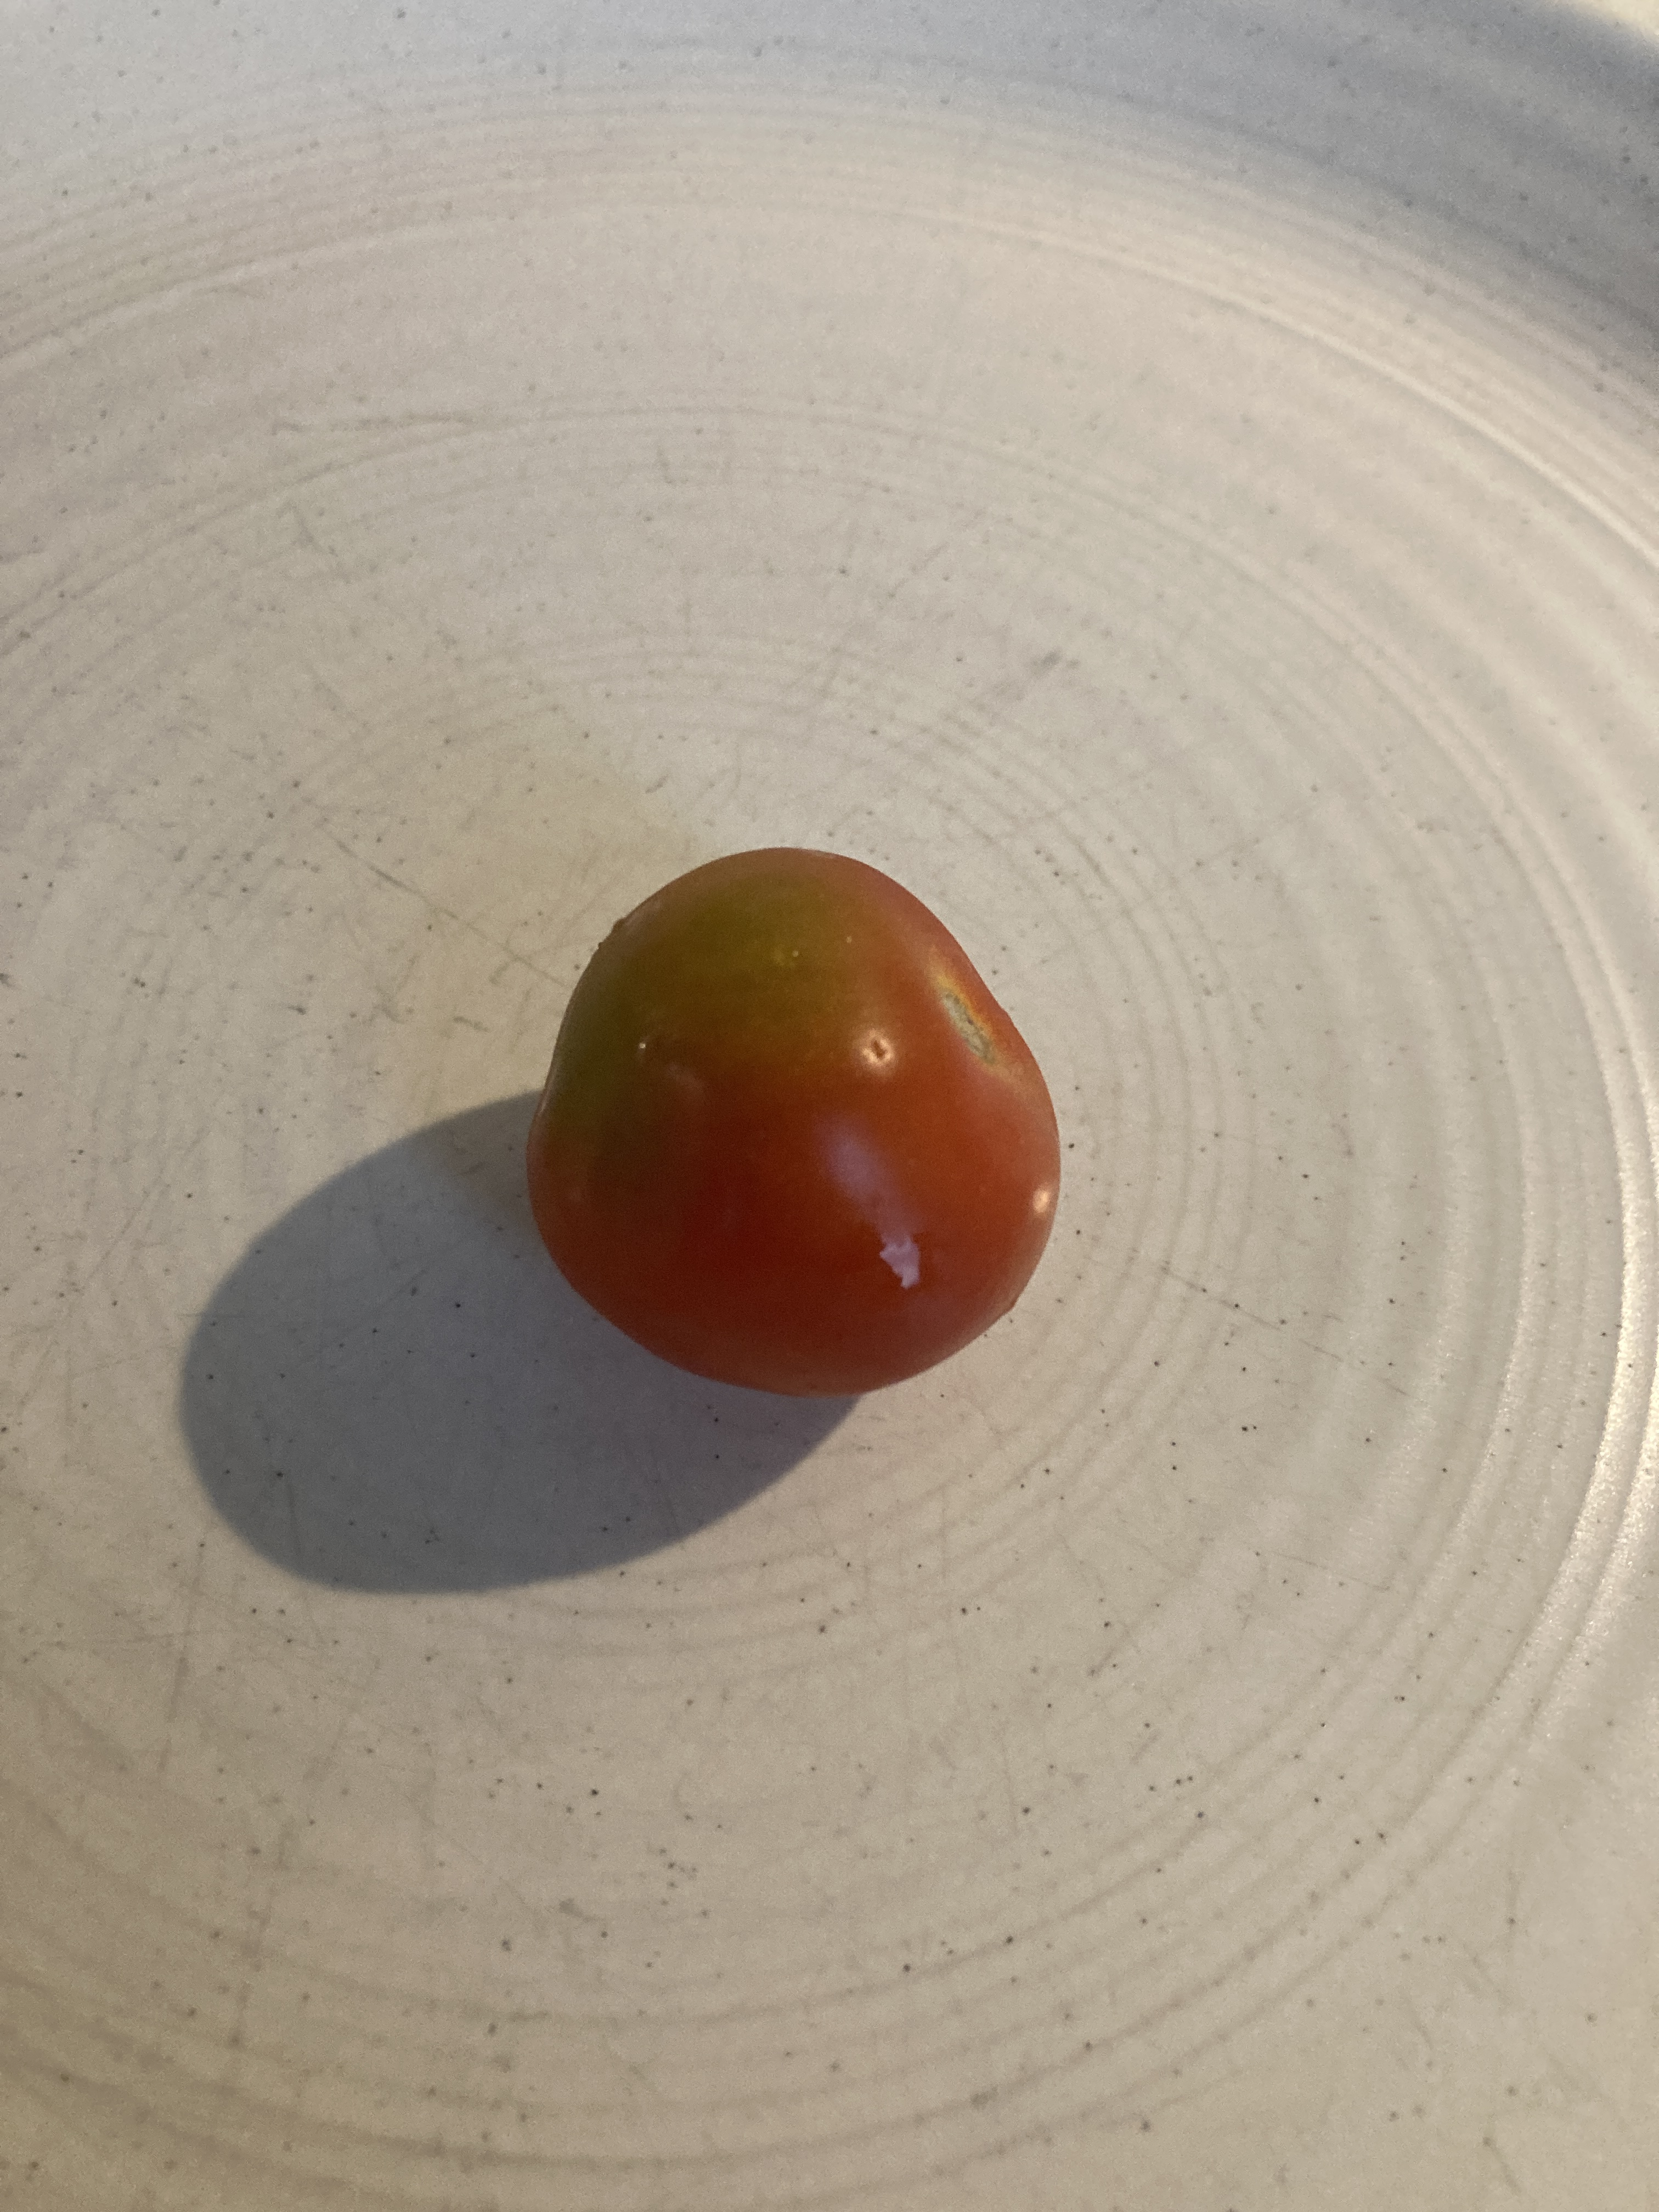healthy-tomato: (523, 840, 1065, 1402)
